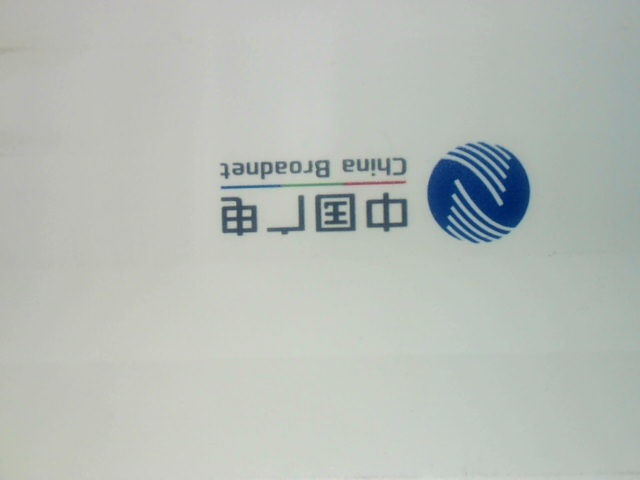AW_ChinaBroadNet: (196, 133, 545, 266)
